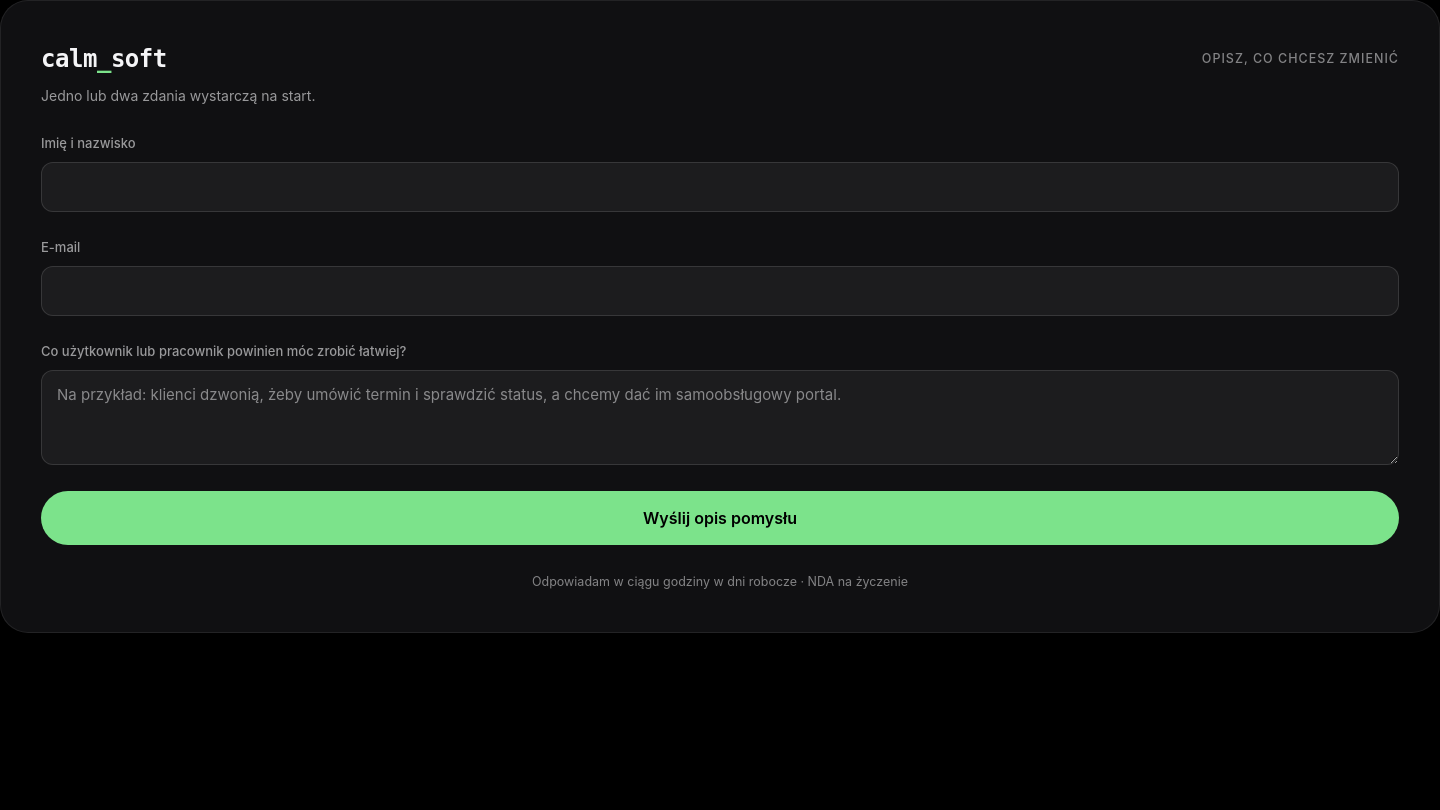
Test case: ContactForm step 1 (SPEC §8, §14.2) › keeps default name, email, message validation and submit-error copy with a service override
This screenshot has width=1440, height=810.
Step 1. Click the button "Wyślij opis pomysłu" → (720, 518), box x1=41 y1=491 x2=1399 y2=545
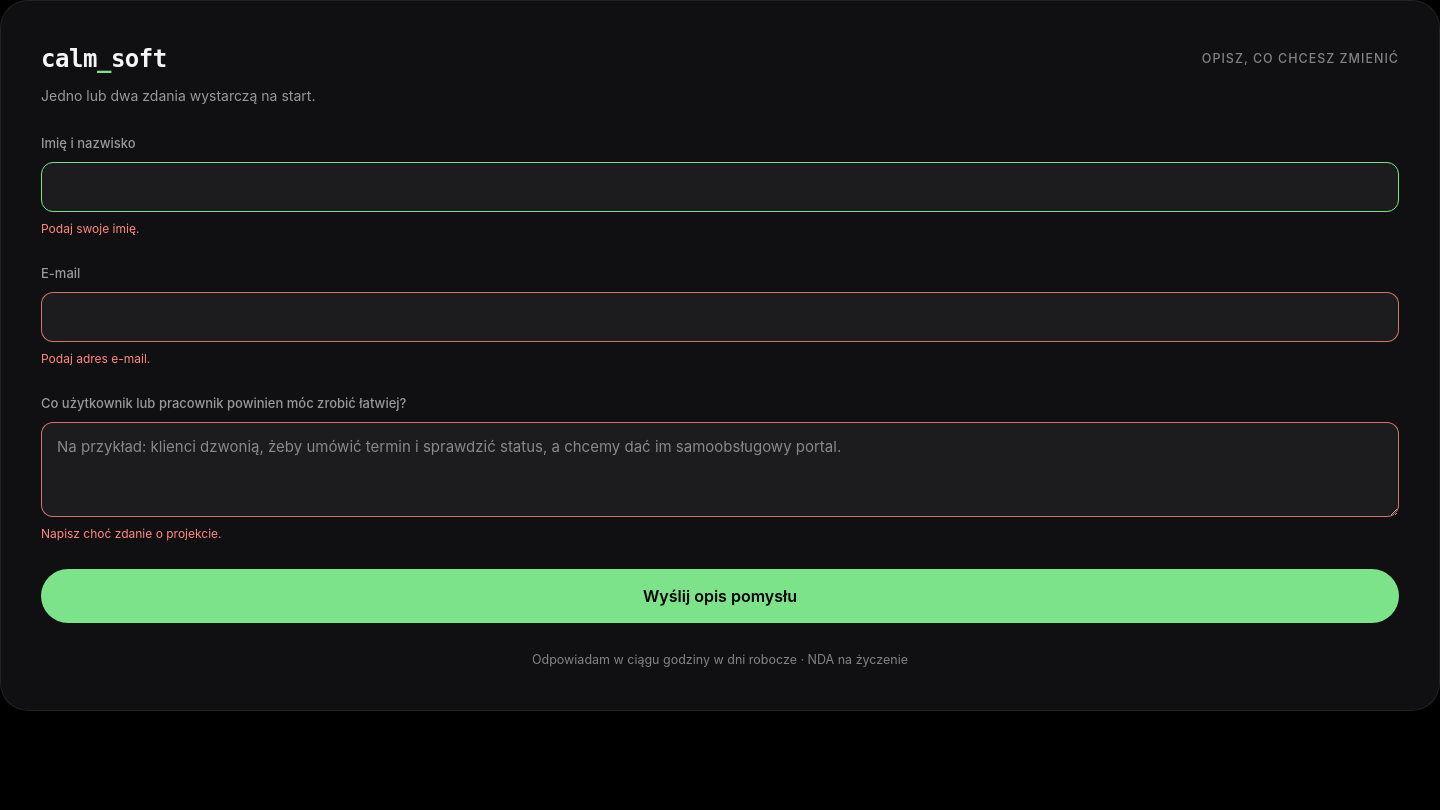
Expected: the text "Podaj swoje imię." is shown, x1=41 y1=221 x2=139 y2=236
Expected: the text "Podaj adres e-mail." is shown, x1=41 y1=351 x2=150 y2=366
Expected: the text "Napisz choć zdanie o projekcie." is shown, x1=41 y1=526 x2=222 y2=541
